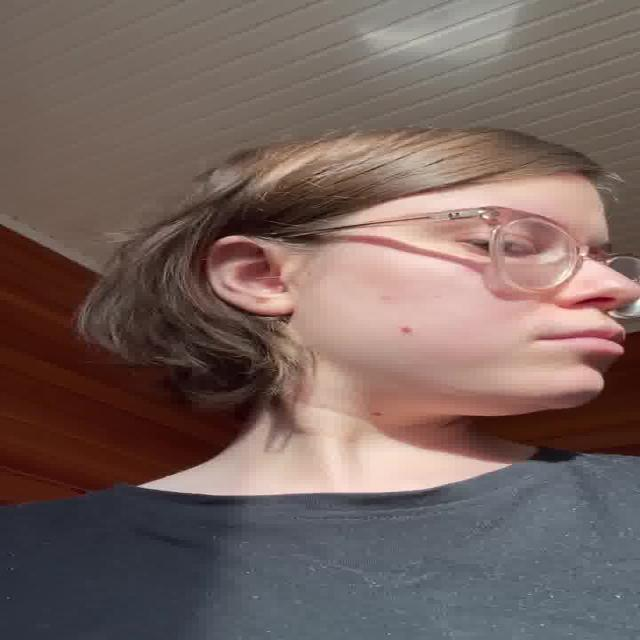earlobe: (203, 235, 294, 317)
